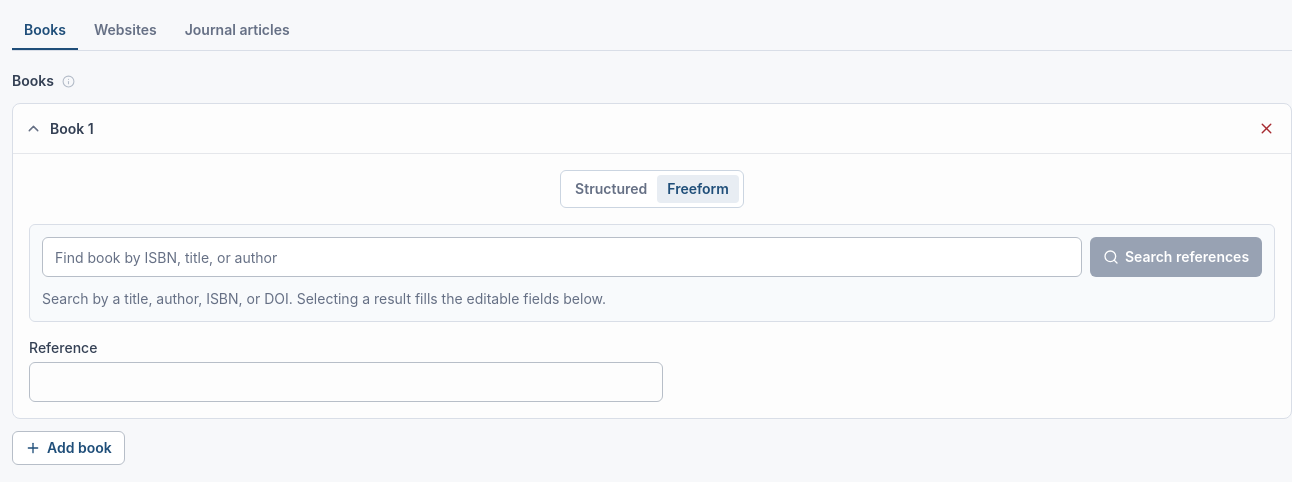
BibliographyEditor › explains when a completed reference search finds no matches
In the search field labelled "Find book by ISBN, title, or author": (562, 257) [42,237,1082,277], type "Principles & practice of physics Mazur 2016"
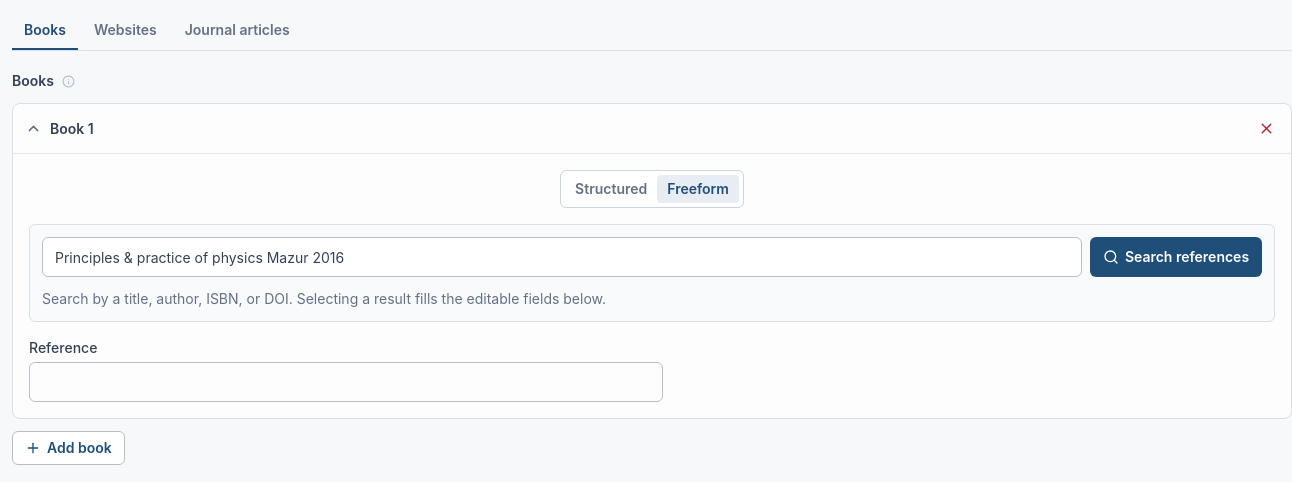
Click the button "Search references": (1176, 257) [1090,237,1262,277]
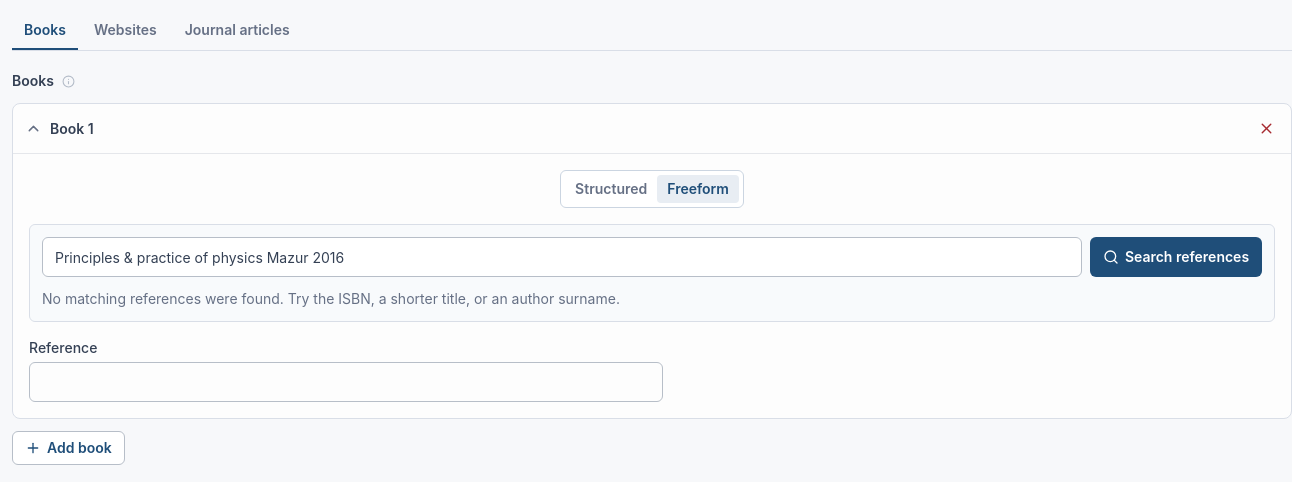
Result: the message shows "No matching references were found" at [42,290,620,307]
